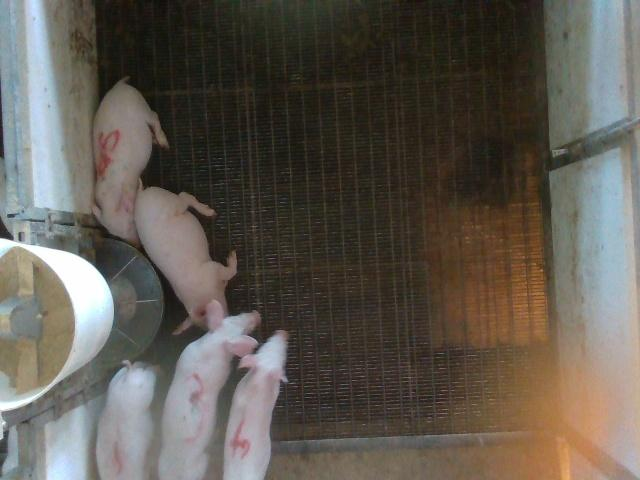pig-1: (96, 360, 156, 479)
pig-3: (159, 300, 261, 479), (224, 330, 289, 478)
pig-5: (92, 76, 169, 246)
